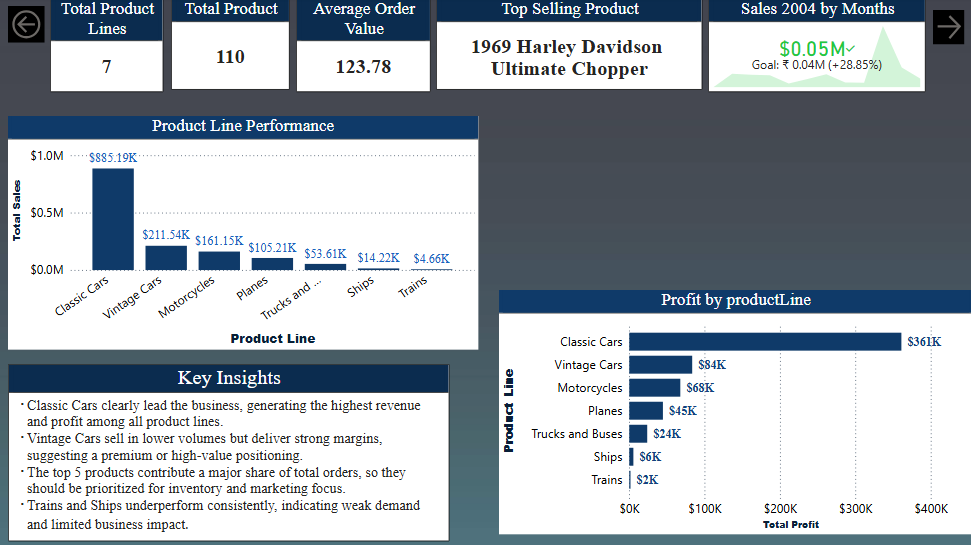

The page's visual inventory and layout, read from the dashboard file:
{"tool":"powerbi","page":{"name":"Sales &Product","canvas":[1280,720],"ordinal":1},"visuals":[{"type":"card","title":"Top Selling Product","fields":{"Values":["order details.Most Ordered Product"]},"box":[591.8,2.8,384,136.3],"z":0},{"type":"kpi","title":"Sales 2004 by Months","fields":{"TrendLine":["orders.Month Name"],"Goal":["orders.sales_2003"],"Indicator":["orders.sales_2004"]},"box":[984.1,0,286.3,139],"z":1000},{"type":"card","title":"Average Order Value","fields":{"Values":["Avg(order details.priceEach)"]},"box":[388.1,0,192.7,136.3],"z":2000},{"type":"barChart","title":"Profit by productLine","fields":{"Category":["productlines.productLine"],"Y":["Sum(order details.Profit)"]},"box":[656.8,384.7,623.2,320.8],"z":3000},{"type":"columnChart","title":"Product Line Performance","fields":{"Category":["products.productLine"],"Y":["Sum(order details.Sales)"]},"box":[11.8,156.2,618.2,307.4],"z":4000},{"type":"card","title":"Total Product Lines","fields":{"Values":["Count(products.productLine)"]},"box":[11,0,185.8,136.3],"z":5000},{"type":"card","title":"Total Product","fields":{"Values":["Count(products.productName)"]},"box":[206.5,2.8,173.4,133.5],"z":6000},{"type":"textbox","title":"Key Insights","box":[11.8,482.1,579.5,233.5],"z":7000}]}

Visuals, with their boxes in screenshot pixels (x1, y1, x2, y2), scaled from the page's 1280x720 canvas onto the 971x545 screenshot:
"Top Selling Product" card: 449,2,740,105
"Sales 2004 by Months" kpi: 747,0,964,105
"Average Order Value" card: 294,0,441,103
"Profit by productLine" barChart: 498,291,970,534
"Product Line Performance" columnChart: 9,118,478,351
"Total Product Lines" card: 8,0,149,103
"Total Product" card: 157,2,288,103
"Key Insights" textbox: 9,365,449,542
